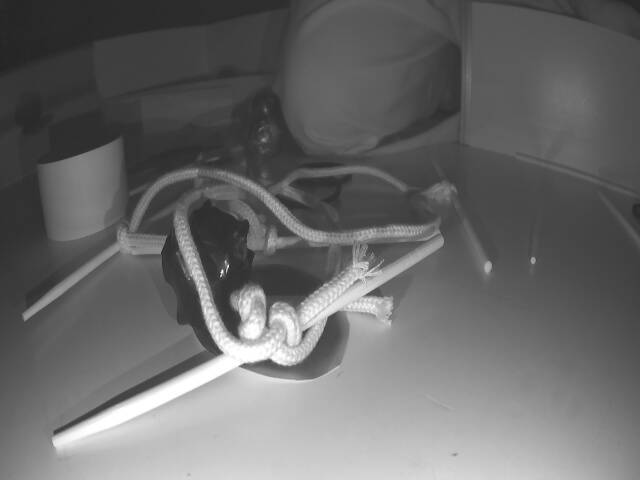Dead: (161, 206, 251, 310)
Live: (246, 115, 284, 165)
Point: (108, 78, 283, 142)
